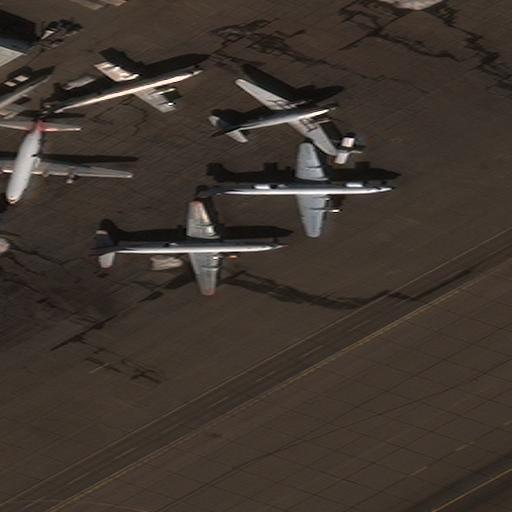Large Civil Transport: (90, 199, 287, 295)
Medium Civil Transport: (194, 142, 396, 237), (0, 119, 132, 205), (212, 78, 338, 155)
Small Civil Transport: (312, 138, 363, 164)
